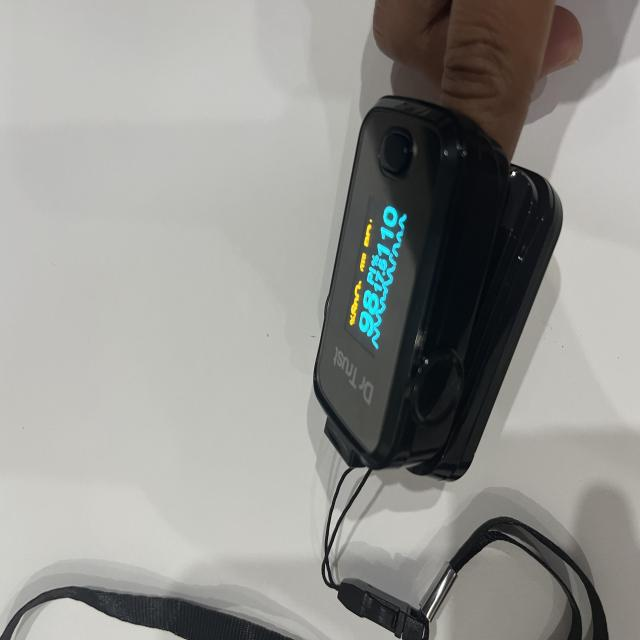spo2: (312, 93, 561, 483)
